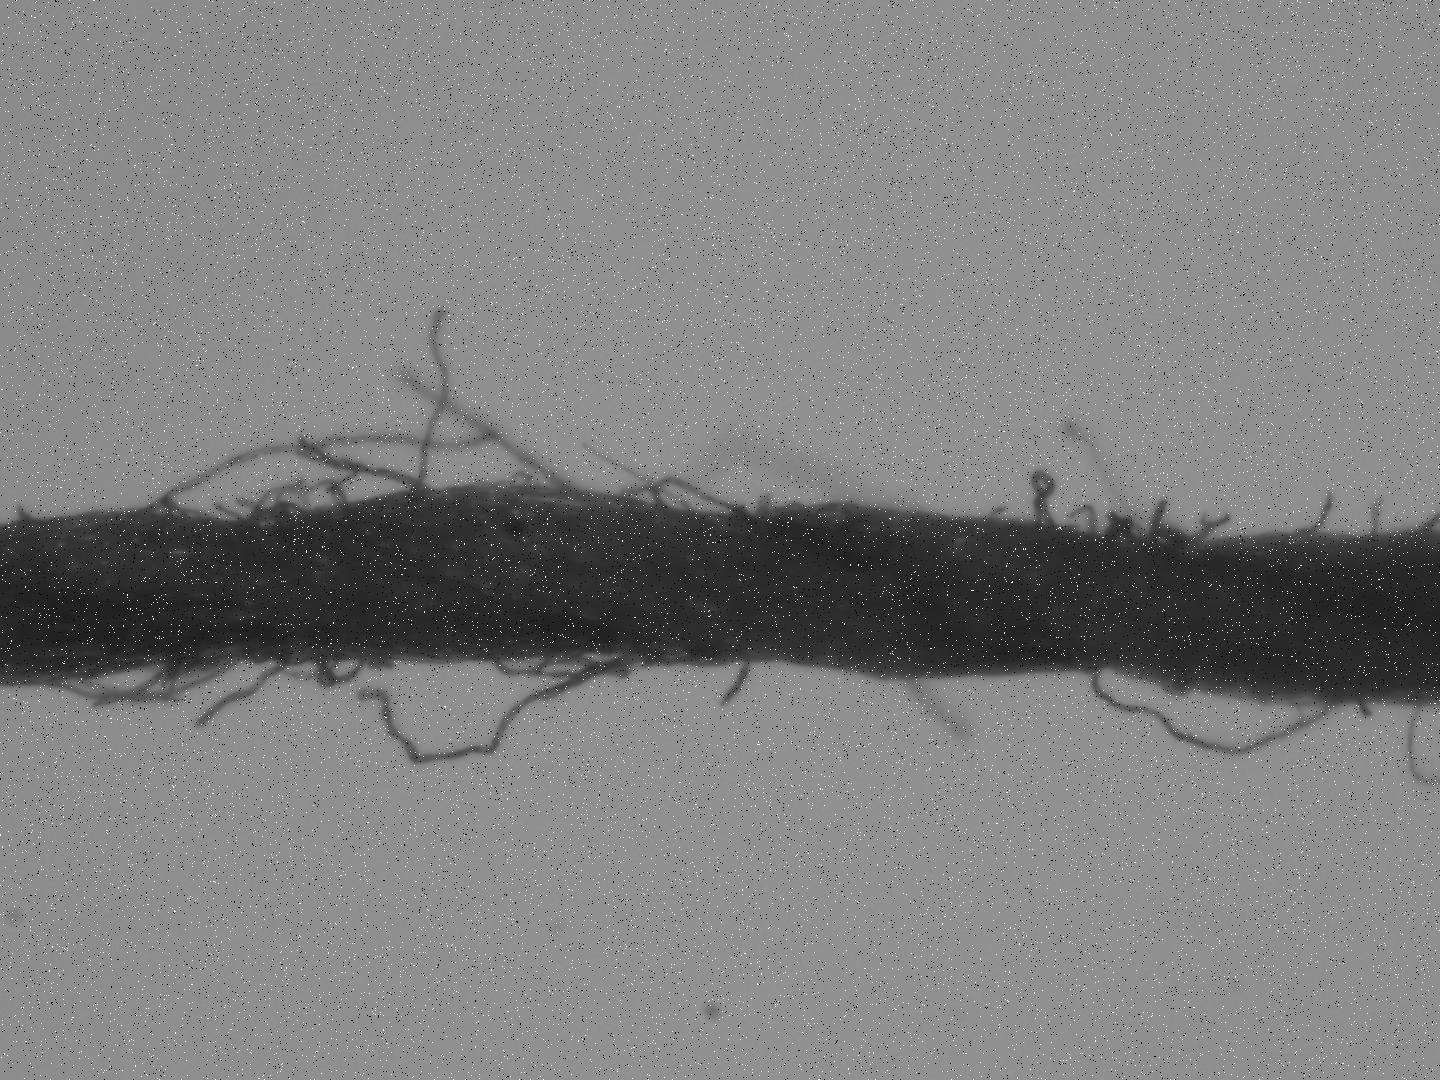loop_fiber: (1094, 667, 1337, 757), (56, 658, 240, 700), (247, 479, 345, 526), (653, 478, 749, 515), (482, 649, 556, 675), (323, 655, 370, 684), (282, 653, 322, 678), (617, 480, 653, 506), (1104, 517, 1141, 542), (1147, 522, 1189, 543)
